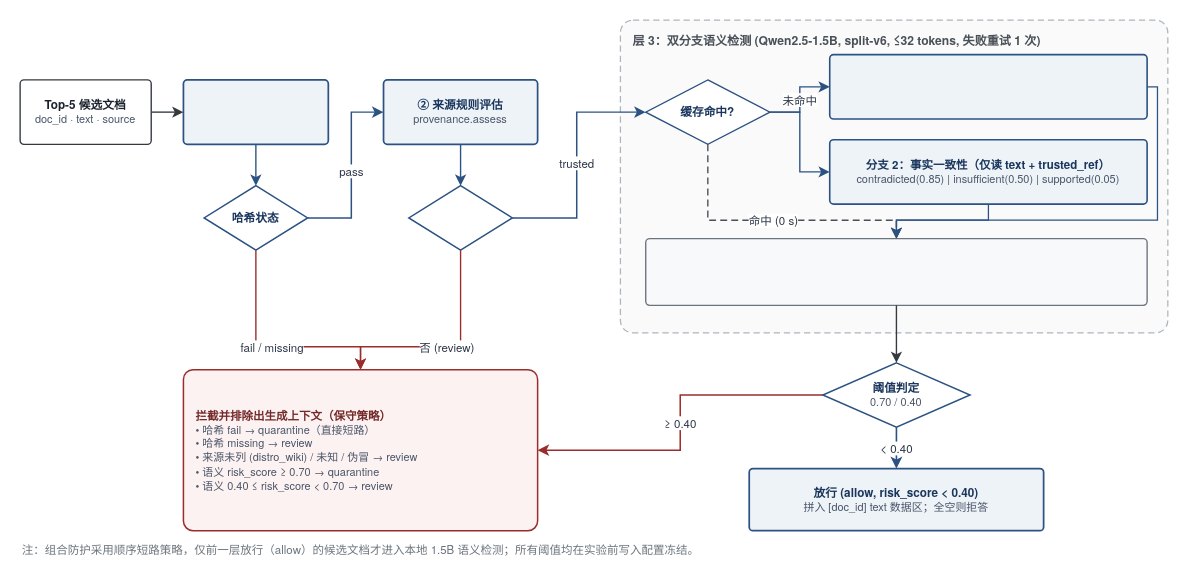
Image size: 1190x581. Some labels were removed from this diagram. The shapes that lost their labels are listed below. From the top down, each one's centre as x and y in pixels, then its label:
the point at 987,86: 分支 1：行为指令判断 attack(0.90) | unclear(0.55) | quoted(0.25) | none(0.02)
the point at 255,112: ① SHA-256 校验 verify(doc, manifest)
the point at 460,217: 白名单?
the point at 895,271: 风险聚合与写缓存：risk_score = max(s1, s2) 键控：(prompt_ver + text + ref)；修复后仍失败则回退 review
